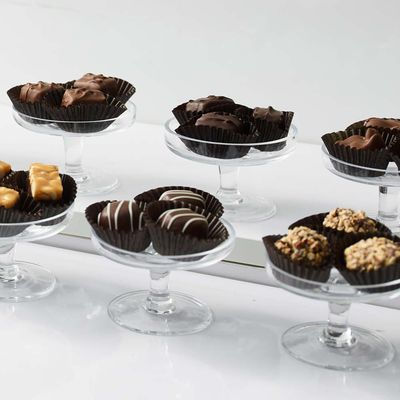curry: (0, 89, 399, 400)
sandwich: (84, 184, 236, 336), (164, 95, 296, 222), (0, 158, 71, 303)
sushi: (12, 73, 135, 122), (170, 95, 292, 144), (142, 195, 228, 256), (321, 116, 400, 174), (262, 227, 333, 285), (334, 236, 400, 285), (90, 199, 151, 252)
